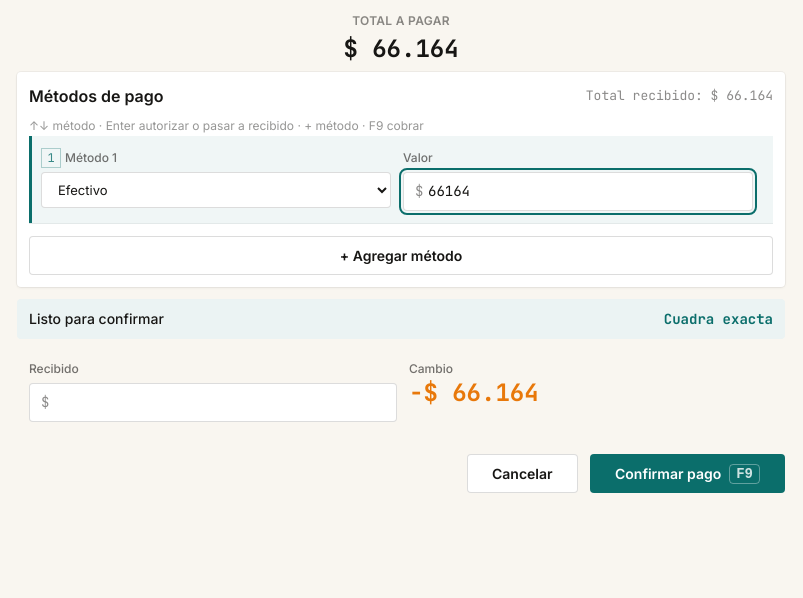
it: PaymentProcessing › adds a new card method when the add-method button is clicked
Click the button "+ Agregar método".
click(401, 255)  # box x1=29 y1=236 x2=773 y2=275
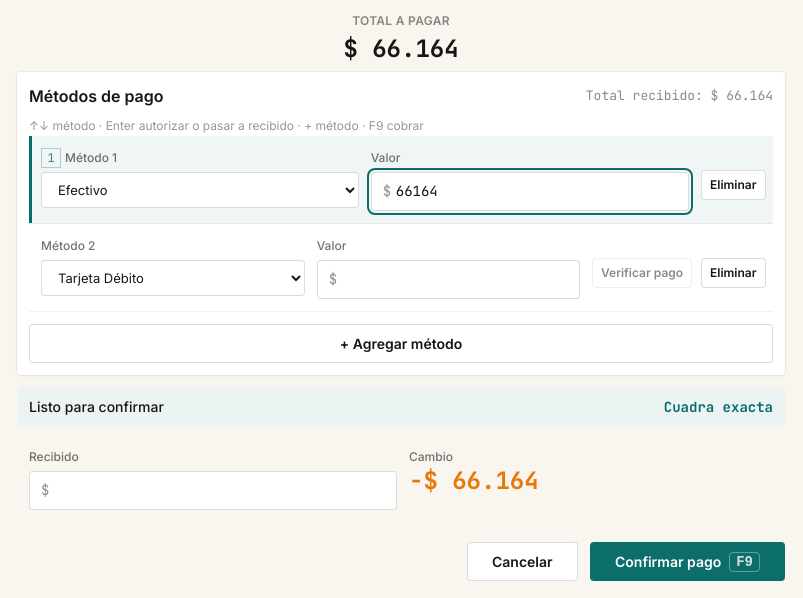
Result: the number of number fields labelled "Valor" is 2 at x1=371 y1=172 x2=689 y2=211; x1=317 y1=260 x2=580 y2=299
